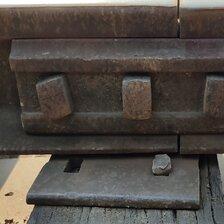railway-gap: (152, 0, 205, 45), (164, 131, 193, 160)
